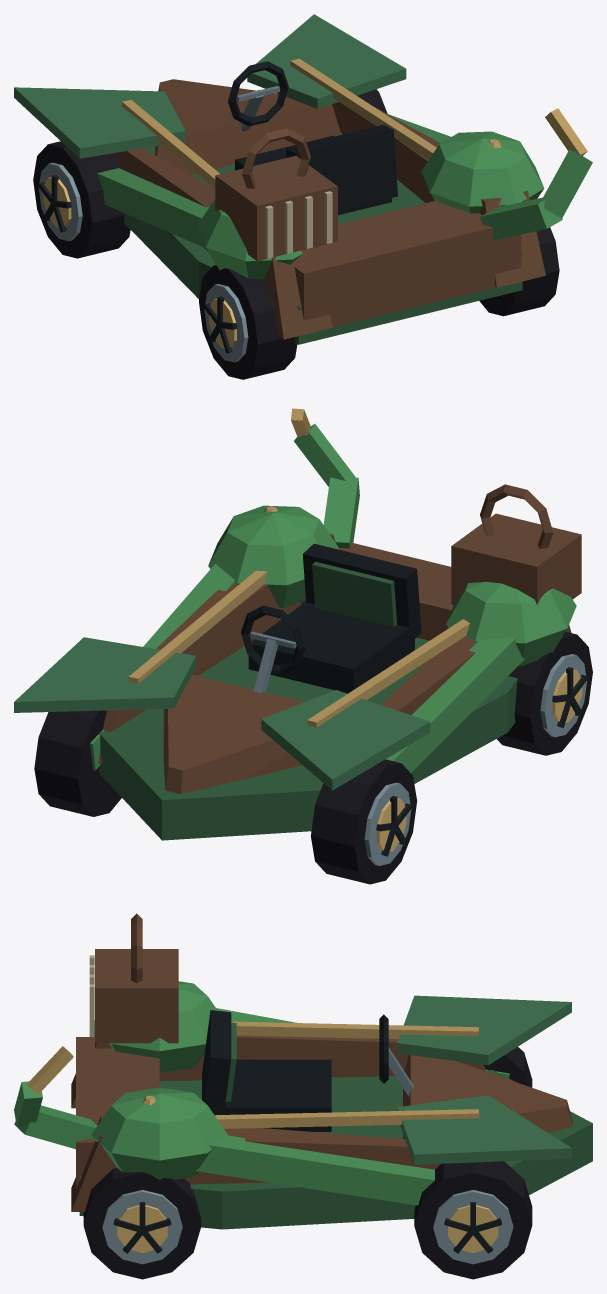
Rendered from kart.glb.
3 renders of one model, top to bottom at view 1: azimuth 30°, elevation 25°; view 2: azimuth 150°, elevation 25°; view 3: azimuth 270°, elevation 25°, orthographic. The views are drawn at different scales.
Parts seen in each view (by area): view 1: identity-nature-nature-root-cradle-and-leaf-bow, identity-nature-motif-basket, identity-nature-driver-cockpit, wheel-front-left, wheel-rear-left, identity-nature-motif-tail, wheel-rear-right; view 2: identity-nature-nature-root-cradle-and-leaf-bow, identity-nature-driver-cockpit, wheel-front-left, identity-nature-motif-basket, wheel-rear-left, wheel-front-right, identity-nature-motif-tail; view 3: identity-nature-nature-root-cradle-and-leaf-bow, wheel-front-right, wheel-rear-right, identity-nature-driver-cockpit, identity-nature-motif-basket, identity-nature-motif-tail, wheel-front-left.
Part boxes in pixels (x1,y1,x2,y2): identity-nature-nature-root-cradle-and-leaf-bow: [14, 14, 545, 344]; identity-nature-motif-basket: [215, 128, 337, 261]; identity-nature-driver-cockpit: [228, 61, 397, 215]; wheel-front-left: [33, 141, 130, 258]; wheel-rear-left: [199, 265, 297, 379]; identity-nature-motif-tail: [480, 108, 592, 240]; wheel-rear-right: [479, 227, 559, 316]; identity-nature-nature-root-cradle-and-leaf-bow: [14, 505, 576, 840]; identity-nature-driver-cockpit: [241, 543, 421, 693]; wheel-front-left: [311, 759, 416, 884]; identity-nature-motif-basket: [451, 484, 581, 605]; wheel-rear-left: [497, 631, 592, 755]; wheel-front-right: [34, 710, 121, 816]; identity-nature-motif-tail: [291, 408, 359, 548]; identity-nature-nature-root-cradle-and-leaf-bow: [71, 981, 592, 1229]; wheel-front-right: [414, 1161, 532, 1279]; wheel-rear-right: [83, 1168, 201, 1279]; identity-nature-driver-cockpit: [202, 1010, 413, 1131]; identity-nature-motif-basket: [89, 913, 178, 1043]; identity-nature-motif-tail: [14, 1046, 97, 1149]; wheel-front-left: [483, 1047, 532, 1087].
Bounding box in the file's own units: 2 × 1.37 × 3.05.
